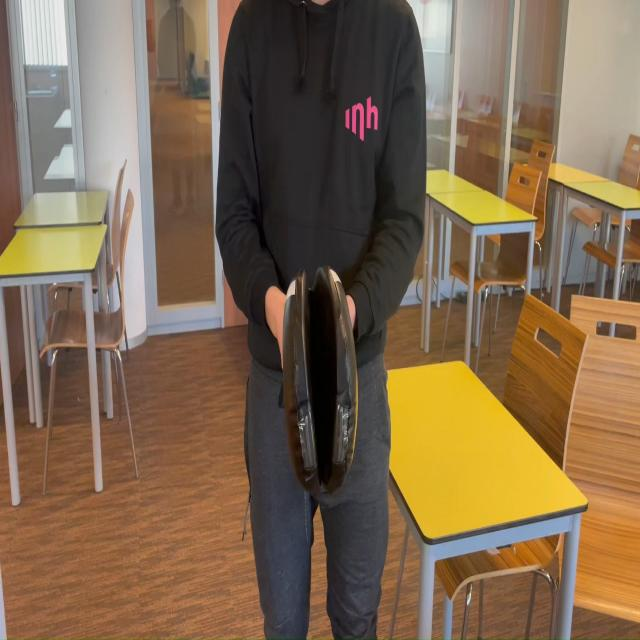paddle: (287, 279, 355, 493)
